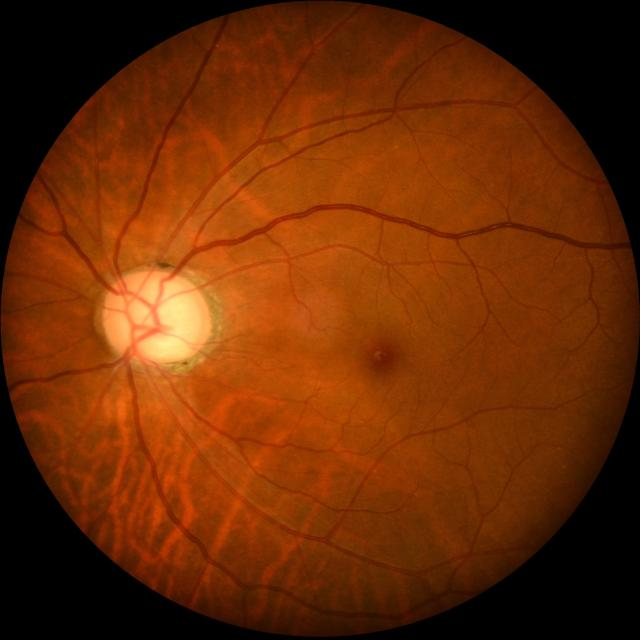OC: (125, 286, 193, 354)
OD: (99, 269, 210, 367)
